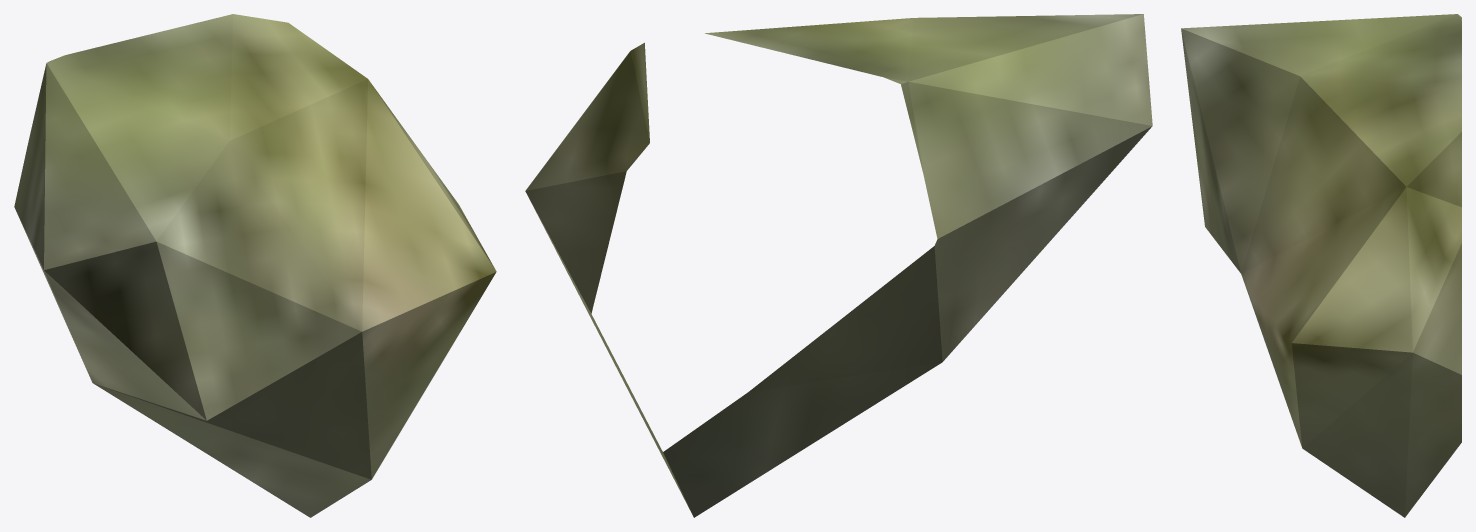
3 renders of one model, left to right at view 1: azimuth 30°, elevation 25°; view 2: azimuth 150°, elevation 25°; view 3: azimuth 270°, elevation 25°, orthographic. The views are drawn at different scales.
Bounding box in the file's own units: 0.2208 × 0.206 × 0.128.
1 material, 1 textured.
